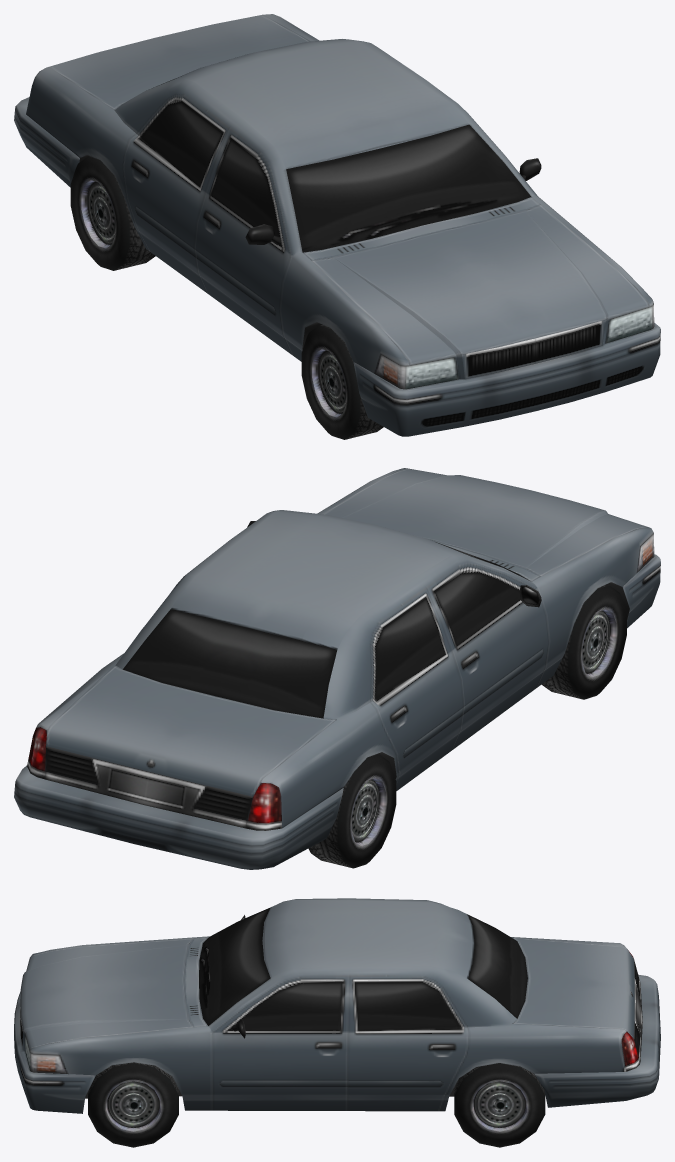
File: traf_veh3.fbx
3 views of the same model, one above another, from view 1: azimuth 30°, elevation 25°; view 2: azimuth 150°, elevation 25°; view 3: azimuth 270°, elevation 25° (orthographic). The views are drawn at different scales.
Visible parts, largest first — view 1: traf_veh3; view 2: traf_veh3; view 3: traf_veh3.
Part boxes in pixels (x1,y1,x2,y2): traf_veh3: (14, 14, 660, 439); traf_veh3: (14, 468, 660, 869); traf_veh3: (14, 898, 660, 1147).
Size of the model in its own units: 206 by 139 by 491.
